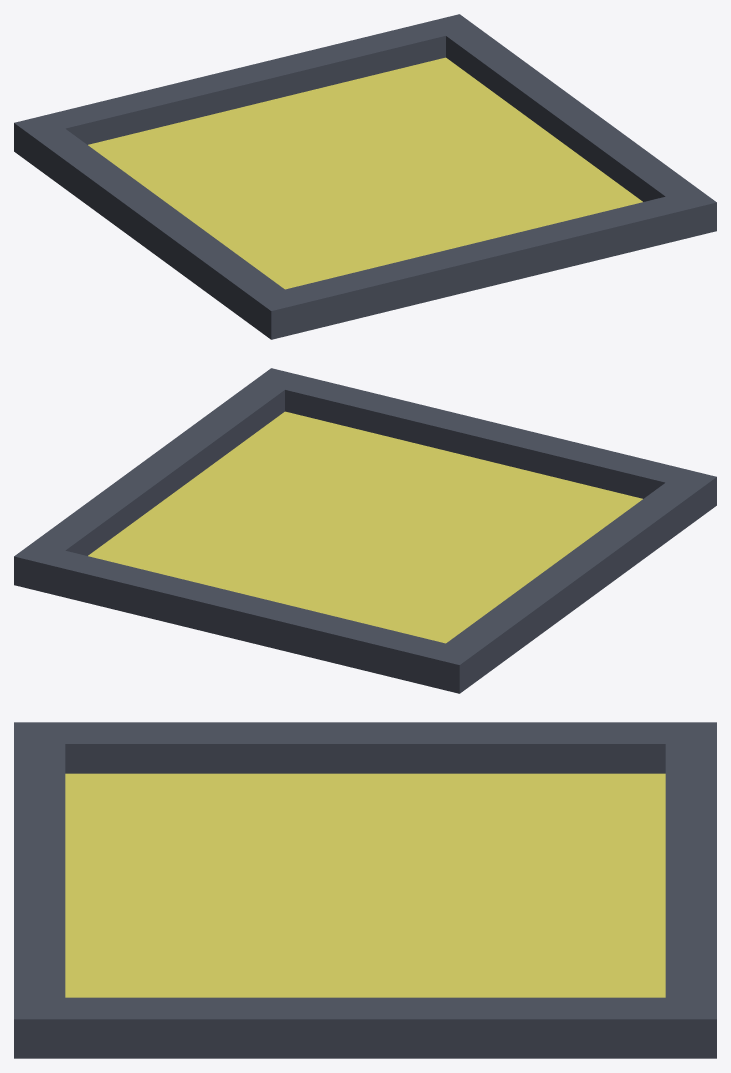
Rendered from reach platform grey.fbx.
3 views of the same model, one above another, from view 1: azimuth 30°, elevation 25°; view 2: azimuth 150°, elevation 25°; view 3: azimuth 270°, elevation 25° (orthographic). The views are drawn at different scales.
Visible parts, largest first — view 1: Cube.030; view 2: Cube.030; view 3: Cube.030.
Boxes of the visible parts, left/top/right/bottom form: Cube.030: left=14, top=14, right=716, bottom=339; Cube.030: left=14, top=368, right=716, bottom=693; Cube.030: left=14, top=722, right=716, bottom=1058.
Size of the model in its own units: 1165 by 71.67 by 1165.
